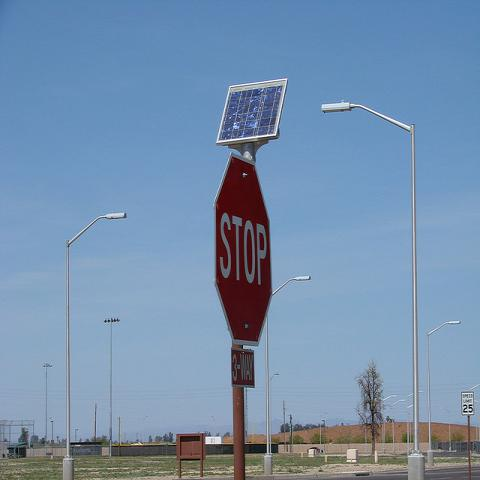car: (307, 447, 325, 454)
